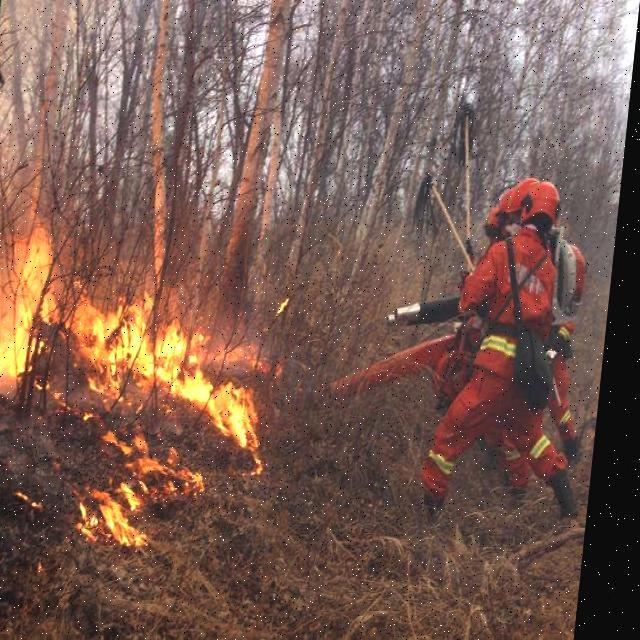Fire: (0, 225, 302, 563)
